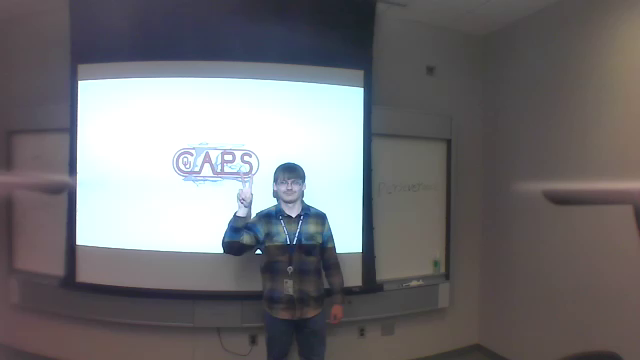peace: (230, 163, 258, 213)
